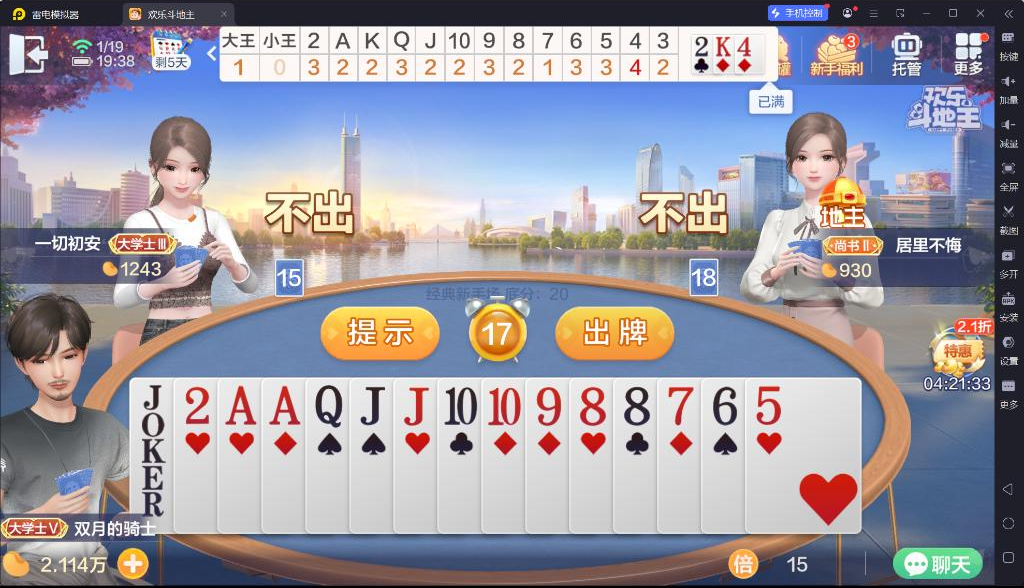A: (222, 383, 258, 427), (267, 383, 302, 427)
J: (357, 385, 386, 426), (402, 385, 430, 427)
K: (715, 36, 733, 59)
Q: (312, 383, 344, 429)
eight: (621, 384, 652, 427), (579, 385, 608, 427)
five: (754, 383, 782, 427)
four: (736, 36, 753, 59)
joker: (139, 382, 167, 469)
nine: (533, 384, 562, 427)
seven: (665, 384, 695, 428)
six: (710, 383, 740, 427)
ten: (442, 385, 479, 427), (487, 386, 523, 428)
two: (183, 384, 212, 426), (693, 36, 709, 57)
